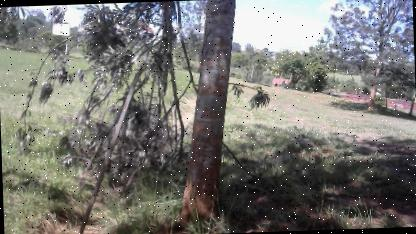tree: (171, 0, 250, 227), (303, 0, 416, 115)
